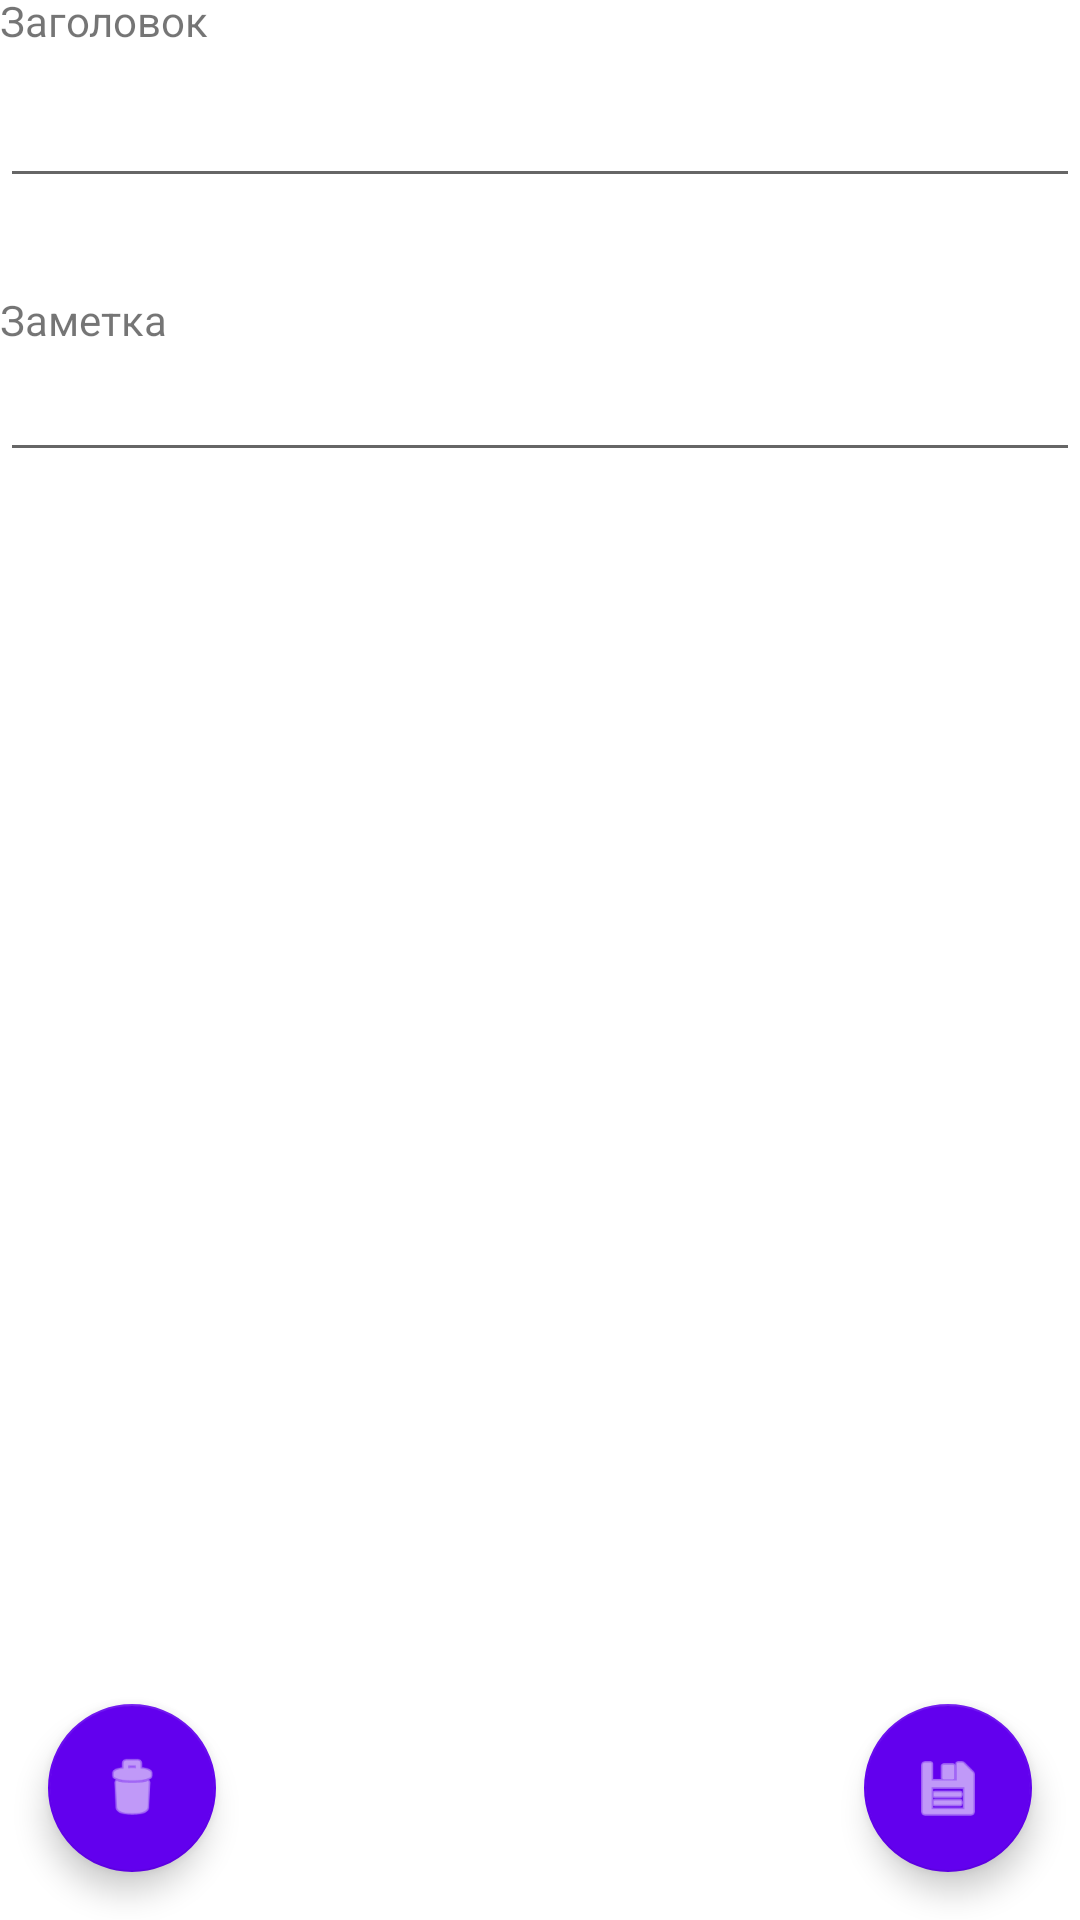

Screen size 1080 x 1920. Icon name, then its box in pixels as [x1,y1,x2,y2]:
delete: [48,1704,216,1872]
save: [864,1704,1032,1872]
